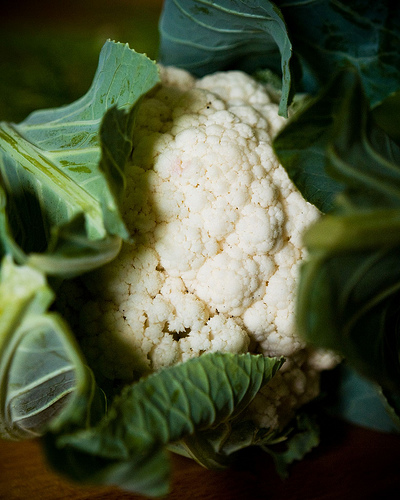cauliflower: (46, 63, 352, 391)
